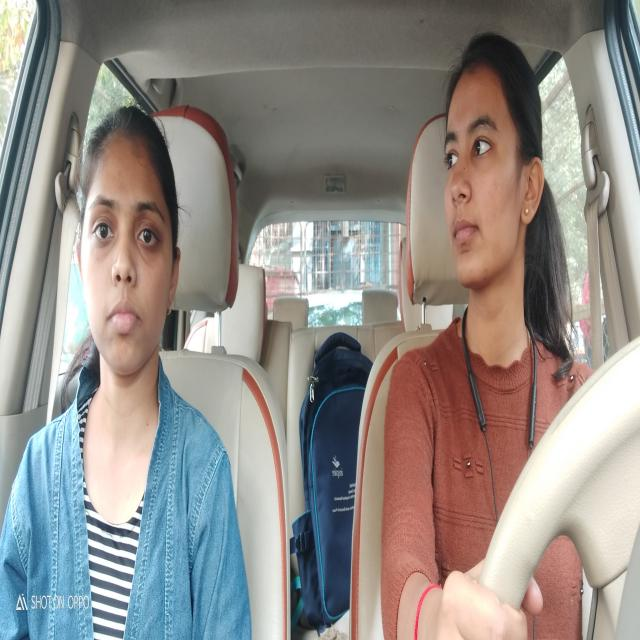LeftRight: (440, 31, 546, 296)
person: (77, 99, 181, 397)
